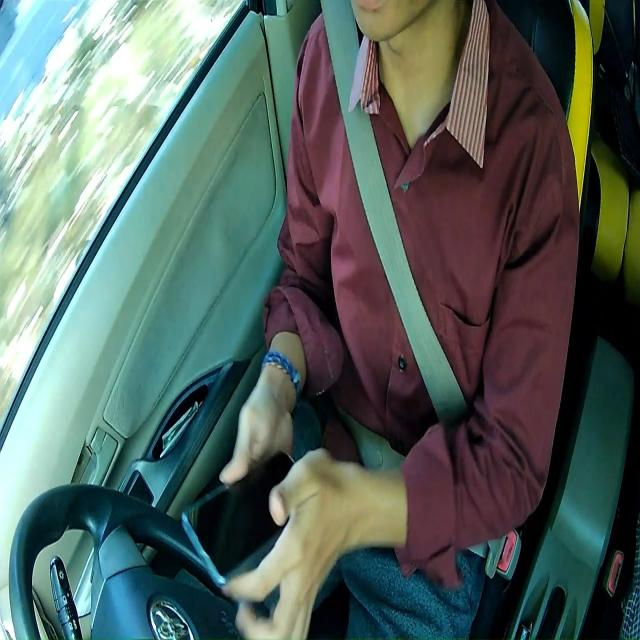phone: (182, 448, 294, 586)
